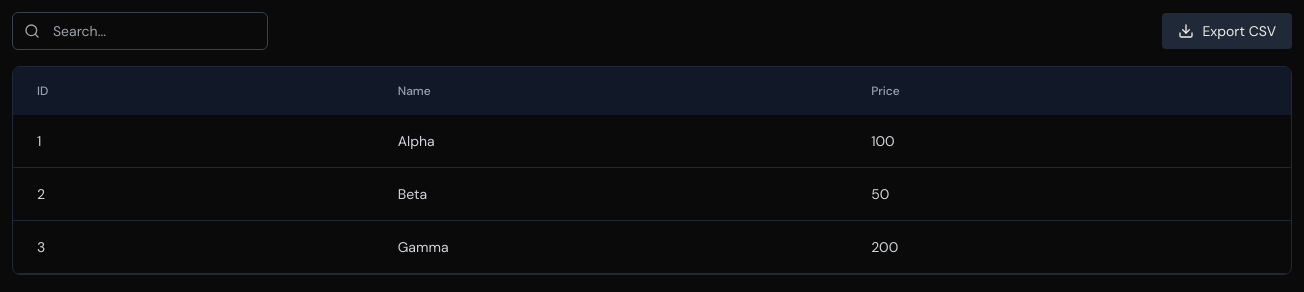
AdminTable UI Logic › filters data accurately with globalSearchField
Step 1. Type "alp" into the field with placeholder "Search..." → (140, 31), box [12, 12, 268, 50]
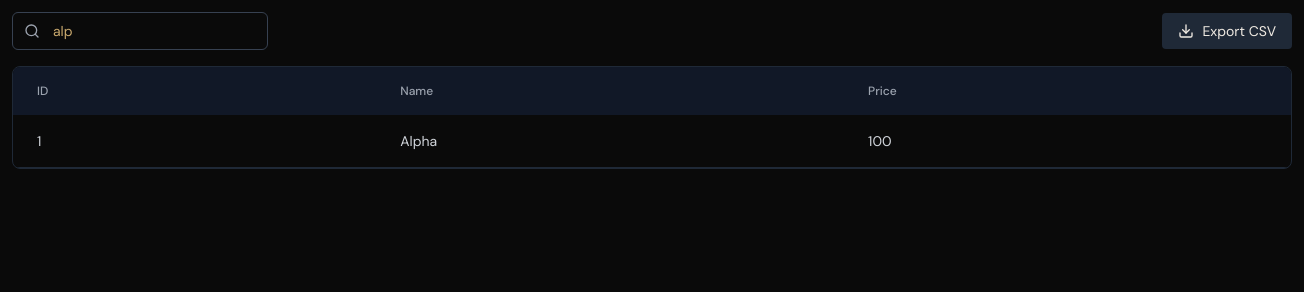
Check: the text "Alpha" is shown, box [376, 115, 844, 168]
Check: the text "Beta" is gone
